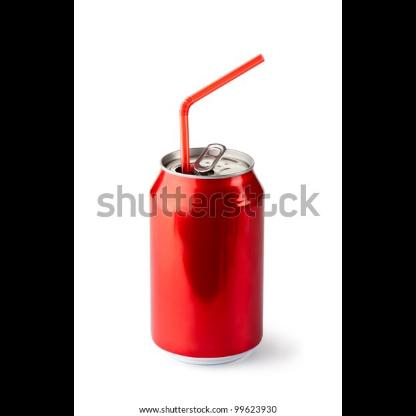Lid_Open: (174, 138, 228, 180)
Tin_Can: (148, 141, 268, 369)
